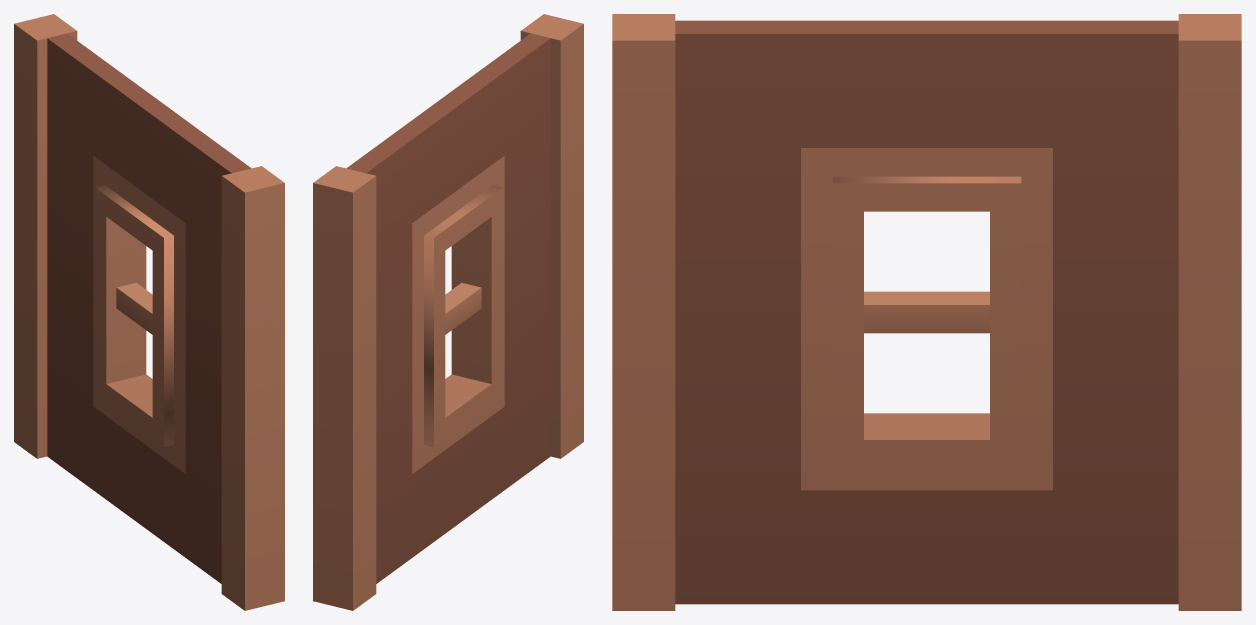
File: window-kn-wall-wood-window-glass.glb
3 views of the same model, side by side, from view 1: azimuth 30°, elevation 25°; view 2: azimuth 150°, elevation 25°; view 3: azimuth 270°, elevation 25° (orthographic). The views are drawn at different scales.
Parts seen in each view (by area): view 1: wall-wood-window-glass; view 2: wall-wood-window-glass; view 3: wall-wood-window-glass.
Part boxes in pixels (box(x1,y1,x2,y2)): wall-wood-window-glass: box(14, 14, 284, 610); wall-wood-window-glass: box(313, 14, 583, 610); wall-wood-window-glass: box(612, 14, 1241, 610).
Bounding box in the file's own units: 0.3 × 3 × 3.
Materials: 1 (1 with a texture image).
